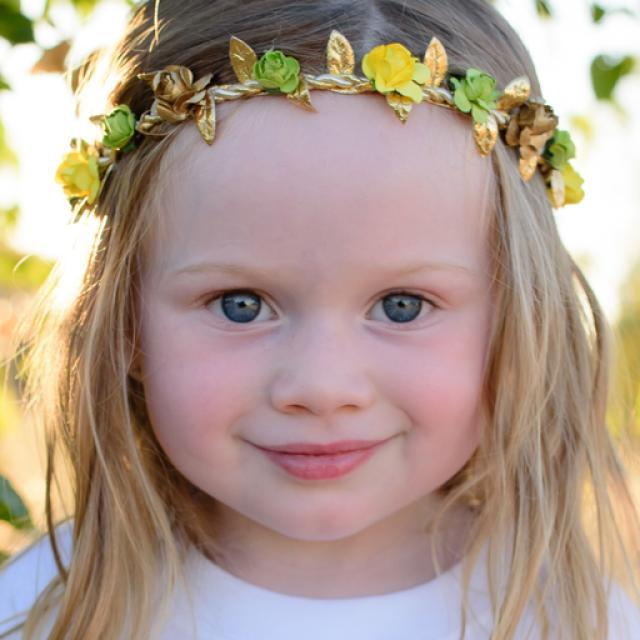happy: (142, 90, 500, 542)
